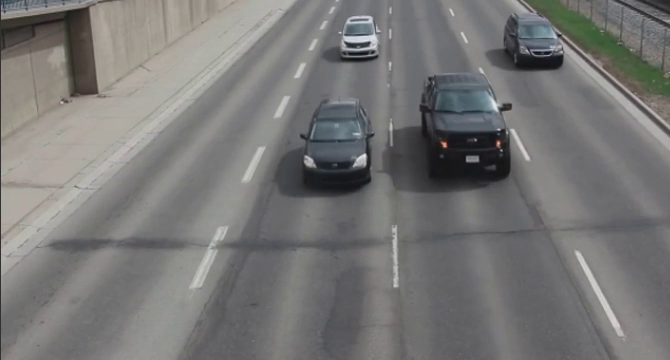car: (415, 75, 515, 187), (298, 95, 374, 194), (501, 12, 568, 72), (338, 14, 385, 58)
